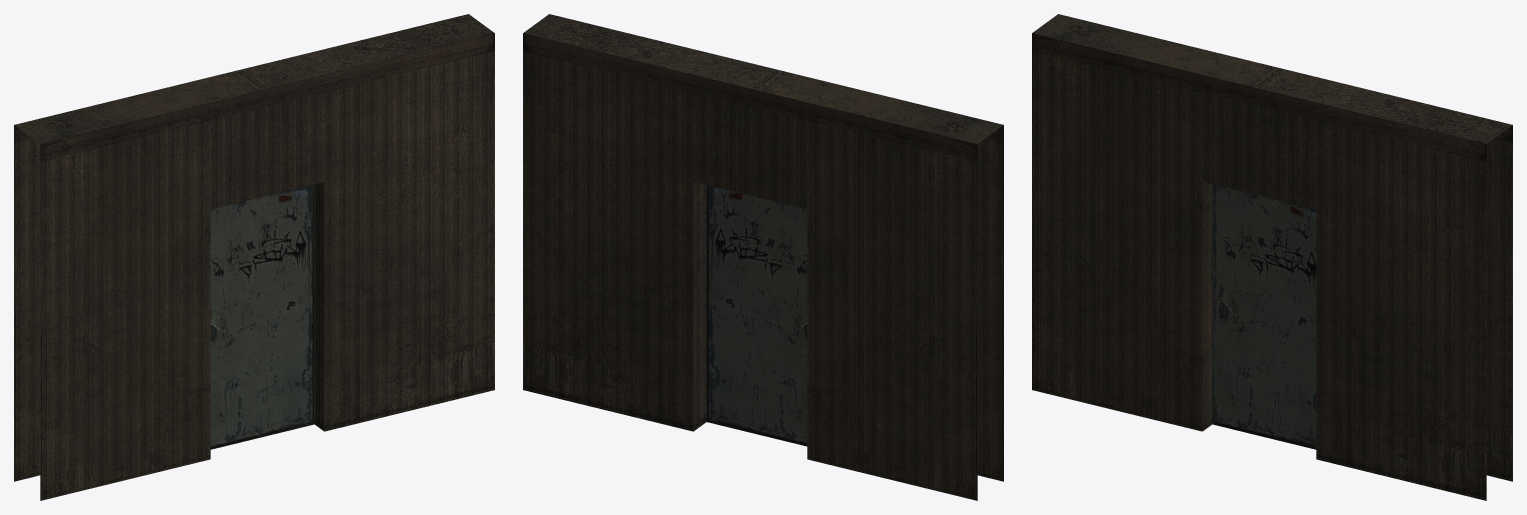
The model's file is doorway_rx_1.obj.
3 views of the same model, side by side, from view 1: azimuth 30°, elevation 25°; view 2: azimuth 150°, elevation 25°; view 3: azimuth 330°, elevation 25° (orthographic).
Parts seen in each view (by area): view 1: doorway_rx_1, door_hr_11; view 2: doorway_rx_1, door_hr_11; view 3: doorway_rx_1, door_hr_11.
Boxes of the visible parts, <box> form: doorway_rx_1: <box>14,14,494,500</box>; door_hr_11: <box>210,184,314,449</box>; doorway_rx_1: <box>523,14,1003,500</box>; door_hr_11: <box>706,185,807,446</box>; doorway_rx_1: <box>1032,14,1512,500</box>; door_hr_11: <box>1212,184,1316,449</box>.
Size of the model in its own units: 4 by 3 by 0.4.
